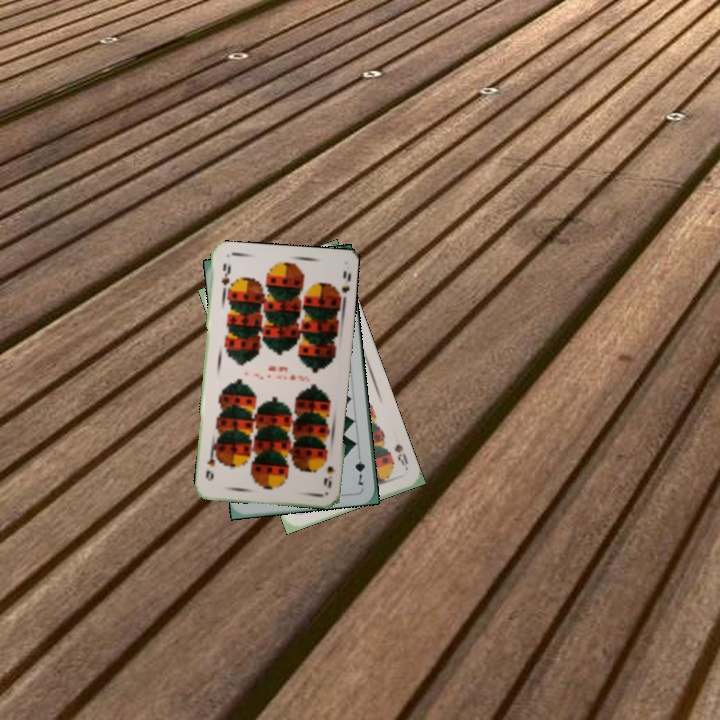G7: (351, 448, 368, 488)
S8: (390, 440, 411, 473)
S9: (217, 260, 232, 297), (319, 462, 338, 491)
